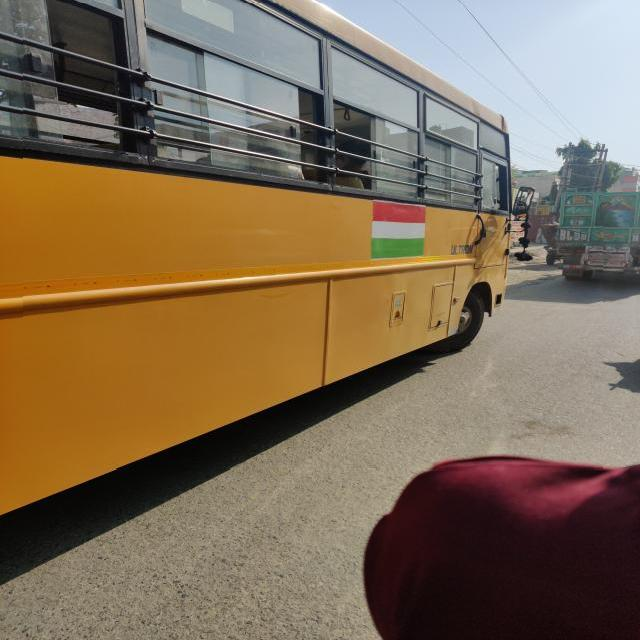Bus: (23, 3, 603, 470)
